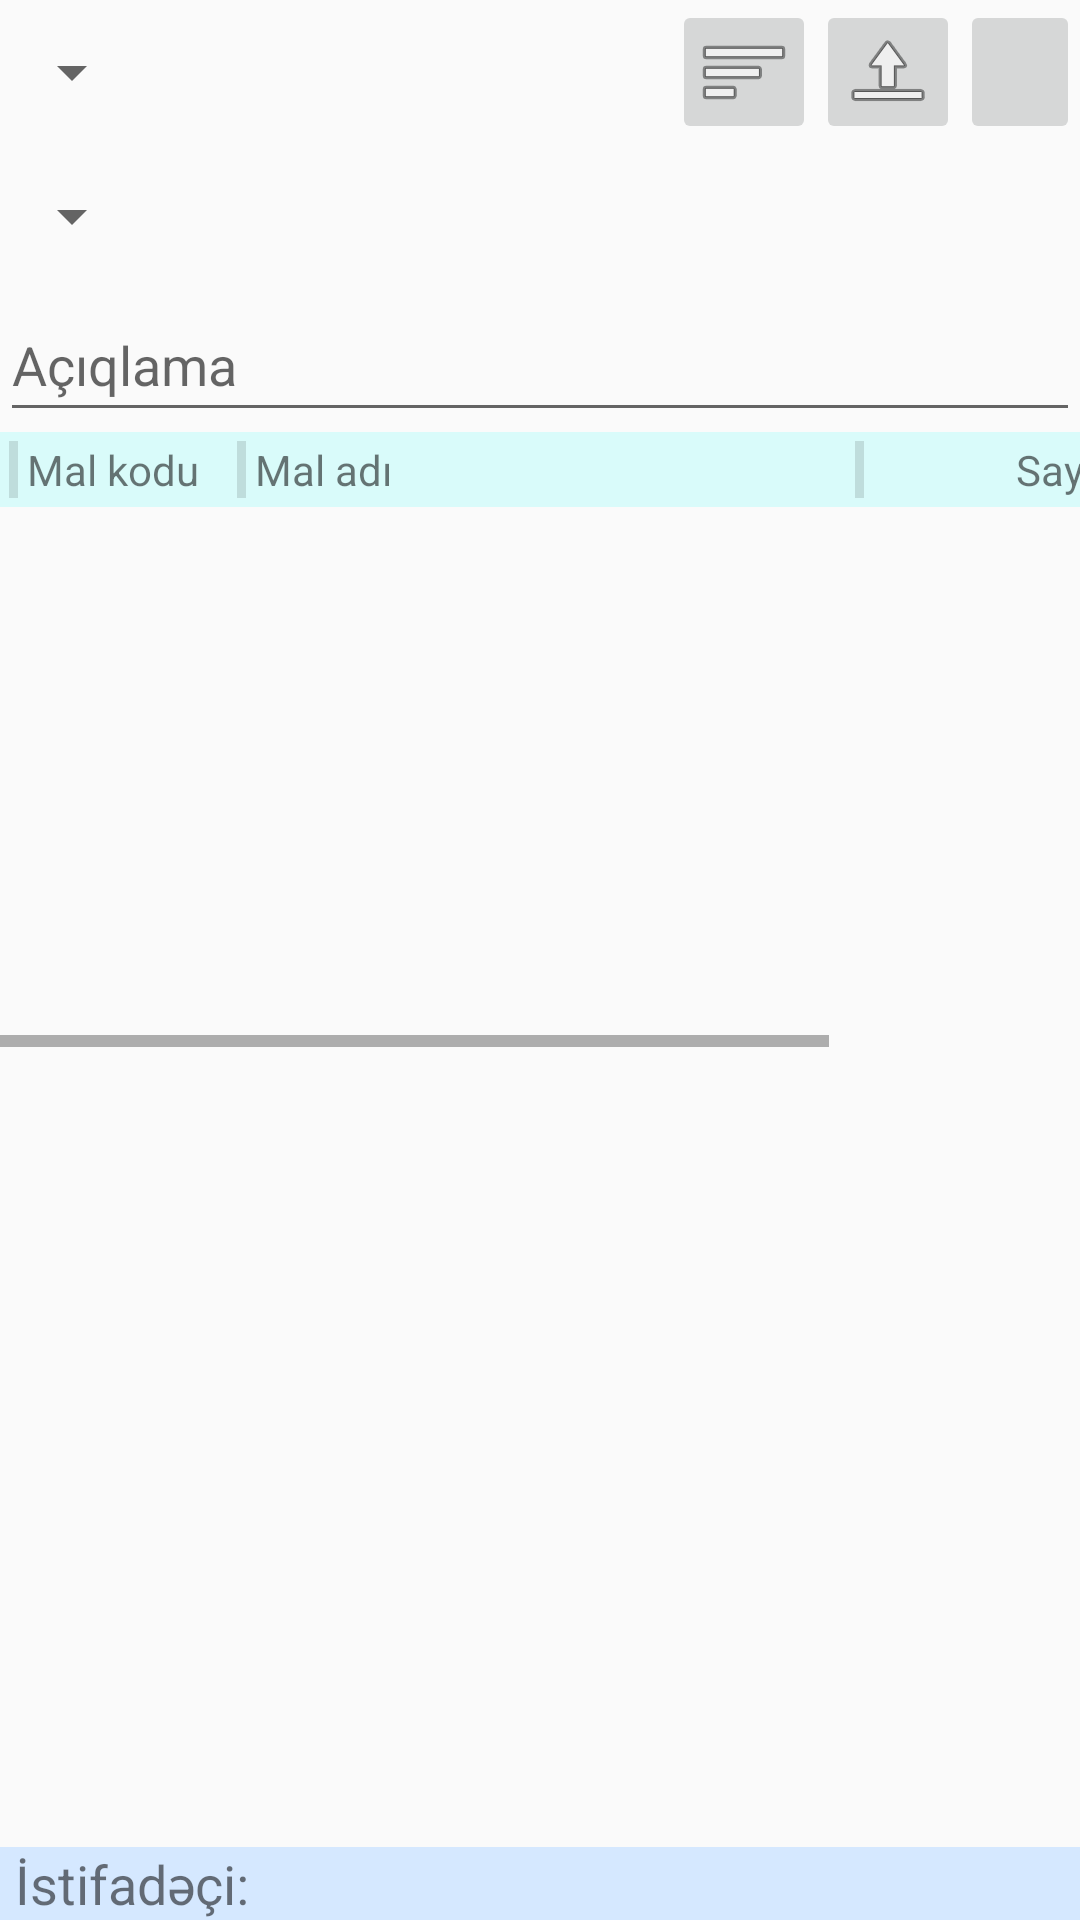

Where to tap for icons on this 1080x1920 app screen, as (x=x, y=y):
Göndər: (x=888, y=72)
